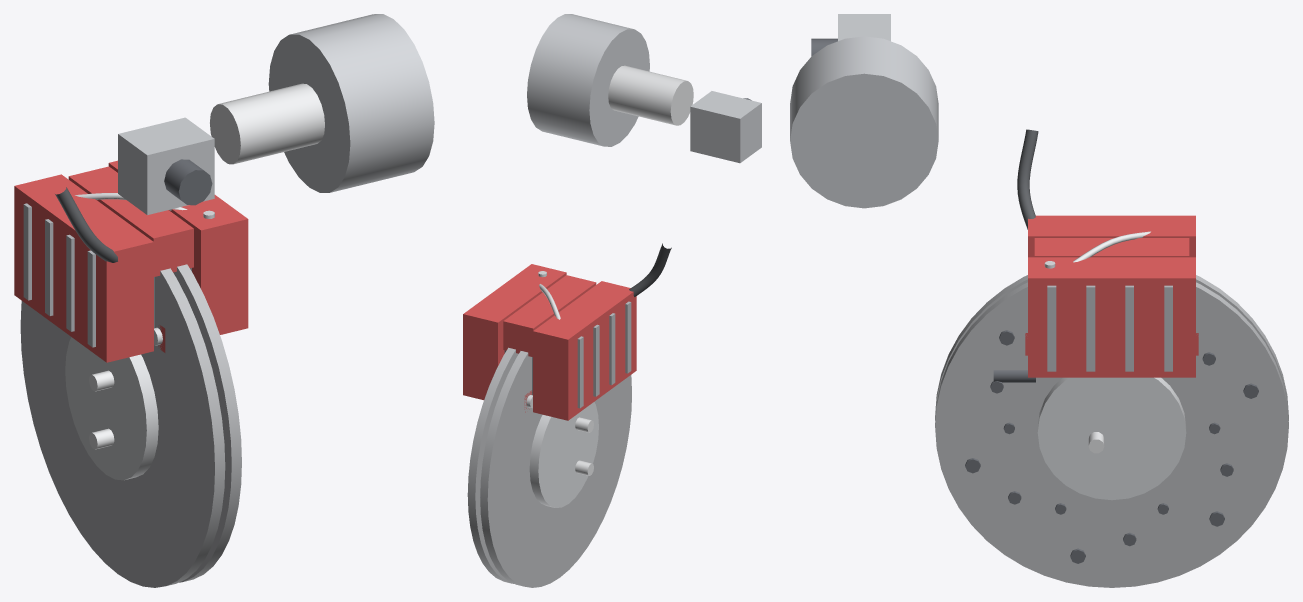
Rendered from fbrakes.glb.
3 renders of one model, left to right at view 1: azimuth 30°, elevation 25°; view 2: azimuth 150°, elevation 25°; view 3: azimuth 270°, elevation 25°, orthographic. The views are drawn at different scales.
Visible parts, largest first — view 1: frontBrakeRotorLeft_faceI, brakeBooster_can, frontBrakeCaliperLeft_inner, frontBrakeRotorLeft_hat, brakeMasterCylinder_body, frontBrakeCaliperLeft_outer, absHydraulicControlUnit_block, frontBrakeRotorLeft_faceO, frontBrakeCaliperLeft_bridge, frontBrakeCaliperLeft, absHydraulicControlUnit_pump, frontBrakeFlexHose_flex (+1 smaller); view 2: frontBrakeRotorLeft_faceI, brakeBooster_can, frontBrakeCaliperLeft_inner, frontBrakeCaliperLeft_outer, frontBrakeRotorLeft_hat, absHydraulicControlUnit_block, brakeMasterCylinder_body, frontBrakeRotorLeft_faceO, frontBrakeCaliperLeft_bridge, frontBrakeCaliperLeft, frontBrakeFlexHose_flex, frontBrakeRotorLeft; view 3: frontBrakeRotorLeft_faceO, brakeBooster_can, frontBrakeCaliperLeft_outer, frontBrakeRotorLeft_hat, frontBrakeCaliperLeft_inner, frontBrakeCaliperLeft, frontBrakeCaliperLeft_bridge, frontBrakeRotorLeft, frontBrakeRotorLeft_faceI, absHydraulicControlUnit_block, frontBrakeFlexHose_flex.
Boxes of the visible parts, x1,y1,x2,y2 form: frontBrakeRotorLeft_faceI: [20, 268, 225, 587]; brakeBooster_can: [268, 14, 434, 192]; frontBrakeCaliperLeft_inner: [14, 174, 153, 362]; frontBrakeRotorLeft_hat: [65, 337, 158, 480]; brakeMasterCylinder_body: [210, 83, 324, 164]; frontBrakeCaliperLeft_outer: [108, 160, 248, 334]; absHydraulicControlUnit_block: [118, 117, 214, 214]; frontBrakeRotorLeft_faceO: [173, 264, 241, 582]; frontBrakeCaliperLeft_bridge: [68, 166, 193, 276]; frontBrakeCaliperLeft: [23, 203, 95, 347]; absHydraulicControlUnit_pump: [164, 159, 212, 205]; frontBrakeFlexHose_flex: [55, 187, 117, 262]; frontBrakeRotorLeft_faceI: [480, 351, 631, 587]; brakeBooster_can: [527, 14, 649, 146]; frontBrakeCaliperLeft_inner: [533, 281, 636, 420]; frontBrakeCaliperLeft_outer: [463, 264, 566, 400]; frontBrakeRotorLeft_hat: [529, 402, 598, 507]; absHydraulicControlUnit_block: [690, 91, 761, 163]; brakeMasterCylinder_body: [608, 65, 693, 125]; frontBrakeRotorLeft_faceO: [467, 347, 518, 583]; frontBrakeCaliperLeft_bridge: [503, 275, 596, 356]; frontBrakeCaliperLeft: [577, 301, 631, 408]; frontBrakeFlexHose_flex: [629, 243, 671, 296]; frontBrakeRotorLeft: [575, 417, 593, 475]; frontBrakeRotorLeft_faceO: [935, 282, 1288, 587]; brakeBooster_can: [790, 36, 938, 208]; frontBrakeCaliperLeft_outer: [1028, 257, 1195, 377]; frontBrakeRotorLeft_hat: [1037, 377, 1186, 500]; frontBrakeCaliperLeft_inner: [1028, 215, 1195, 257]; frontBrakeCaliperLeft: [1047, 285, 1172, 371]; frontBrakeCaliperLeft_bridge: [1034, 238, 1189, 257]; frontBrakeRotorLeft: [965, 330, 1258, 563]; frontBrakeRotorLeft_faceI: [935, 275, 1288, 420]; absHydraulicControlUnit_block: [838, 14, 890, 41]; frontBrakeFlexHose_flex: [1017, 129, 1038, 229].
Bounding box in the file's own units: 1.55 × 3.52 × 2.82.
